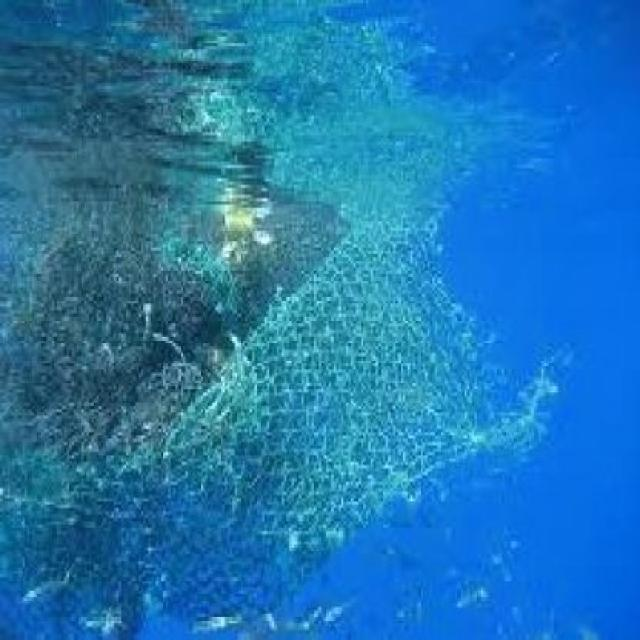net: (2, 180, 472, 538)
